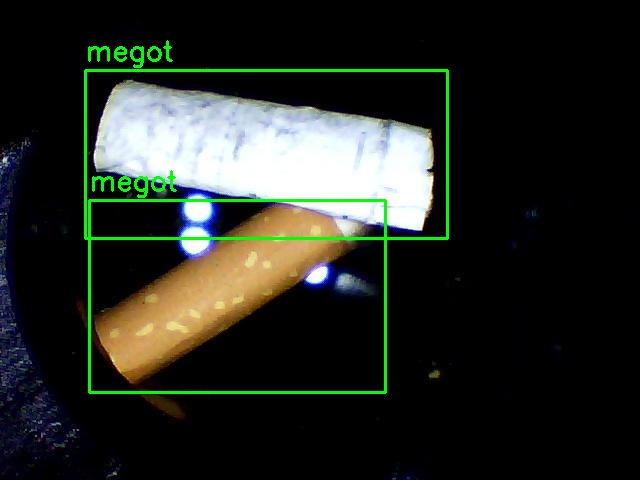megot: (85, 70, 447, 238), (89, 200, 385, 392)
